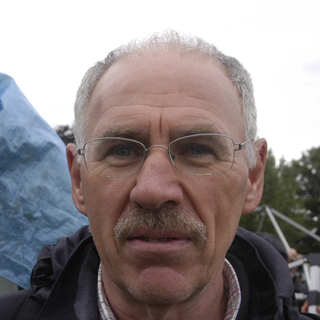eye: (173, 140, 221, 163), (102, 138, 147, 162)
